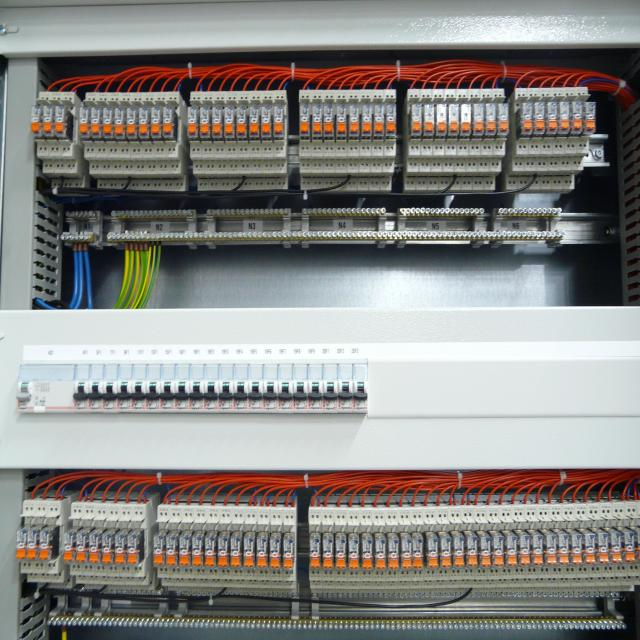Leitungsschutzschalter: (351, 347, 368, 411), (175, 348, 191, 410), (235, 347, 250, 412), (278, 347, 293, 412), (220, 347, 235, 411), (293, 347, 308, 411), (74, 348, 89, 411), (205, 347, 220, 410), (308, 347, 322, 412), (337, 347, 351, 412), (146, 348, 161, 408), (104, 347, 118, 411), (131, 347, 145, 411), (191, 347, 205, 411), (250, 347, 264, 411), (264, 347, 278, 411), (323, 346, 336, 412), (162, 348, 175, 413), (90, 348, 103, 410), (119, 347, 130, 411)
Relais: (451, 532, 465, 566), (438, 532, 451, 568), (322, 533, 334, 570), (478, 532, 491, 566), (230, 535, 242, 571), (426, 532, 438, 568), (518, 530, 530, 566), (323, 104, 335, 139), (204, 535, 216, 570), (268, 536, 280, 571), (504, 531, 516, 566), (41, 105, 54, 137), (423, 104, 435, 138), (217, 536, 229, 570), (282, 536, 294, 570), (335, 534, 347, 568), (492, 530, 504, 564), (531, 531, 543, 565), (559, 100, 570, 136), (348, 533, 359, 569), (388, 534, 399, 570), (413, 533, 424, 569), (466, 532, 477, 568), (544, 531, 556, 564), (125, 535, 138, 565), (299, 104, 310, 139), (312, 103, 323, 138), (375, 534, 386, 569), (584, 531, 595, 566), (520, 104, 532, 136), (179, 535, 191, 567), (498, 104, 509, 138), (534, 102, 545, 136), (572, 101, 583, 135), (154, 534, 165, 568), (256, 536, 267, 570), (361, 534, 372, 568), (401, 534, 412, 568), (410, 105, 422, 136), (39, 529, 51, 560), (74, 532, 86, 563), (597, 532, 609, 563), (610, 531, 622, 562), (623, 530, 635, 561), (126, 107, 137, 140), (584, 102, 595, 135), (101, 533, 112, 566), (166, 535, 177, 568), (243, 536, 254, 569), (102, 108, 114, 138), (570, 532, 582, 562), (114, 107, 125, 139), (151, 107, 162, 139), (212, 107, 223, 139), (236, 106, 247, 138), (249, 107, 260, 139), (261, 106, 272, 138), (16, 527, 27, 559), (88, 532, 99, 564), (114, 533, 125, 565), (192, 536, 203, 568), (486, 103, 496, 138), (310, 534, 320, 569), (336, 104, 346, 138), (349, 104, 359, 138), (386, 105, 396, 139), (448, 104, 458, 138), (460, 104, 470, 138), (474, 104, 484, 138), (90, 107, 101, 137), (274, 106, 284, 139), (547, 102, 557, 135), (27, 528, 37, 561), (558, 531, 568, 564), (139, 107, 149, 139), (362, 105, 372, 137), (375, 104, 384, 139), (55, 106, 65, 137), (188, 107, 198, 138), (224, 107, 234, 138), (437, 104, 447, 135), (31, 106, 41, 136), (79, 108, 89, 138), (200, 107, 210, 137), (64, 532, 74, 562), (164, 107, 172, 140)
Schaltkasten: (0, 1, 640, 640)
